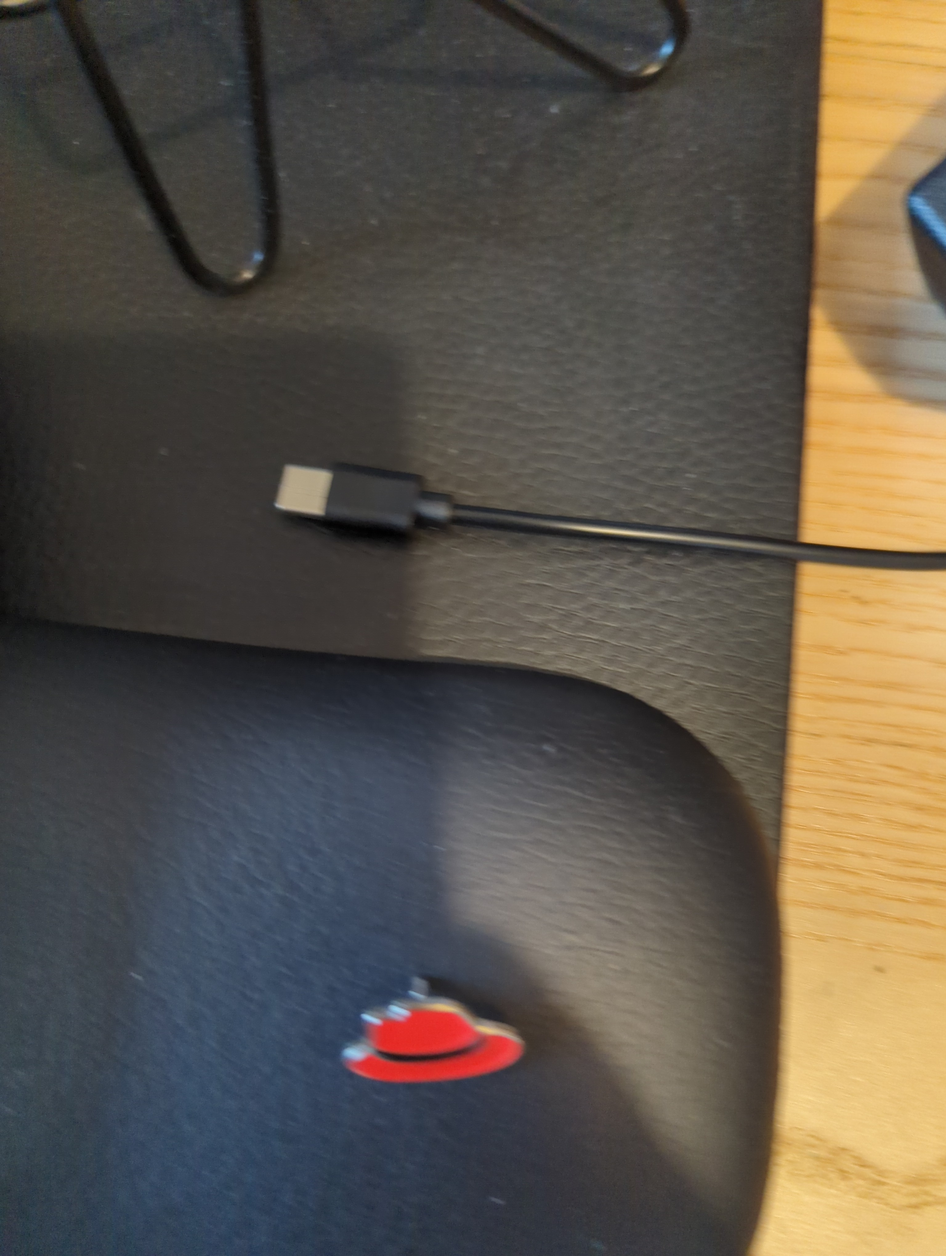Red-Hat: (262, 905, 606, 1160)
